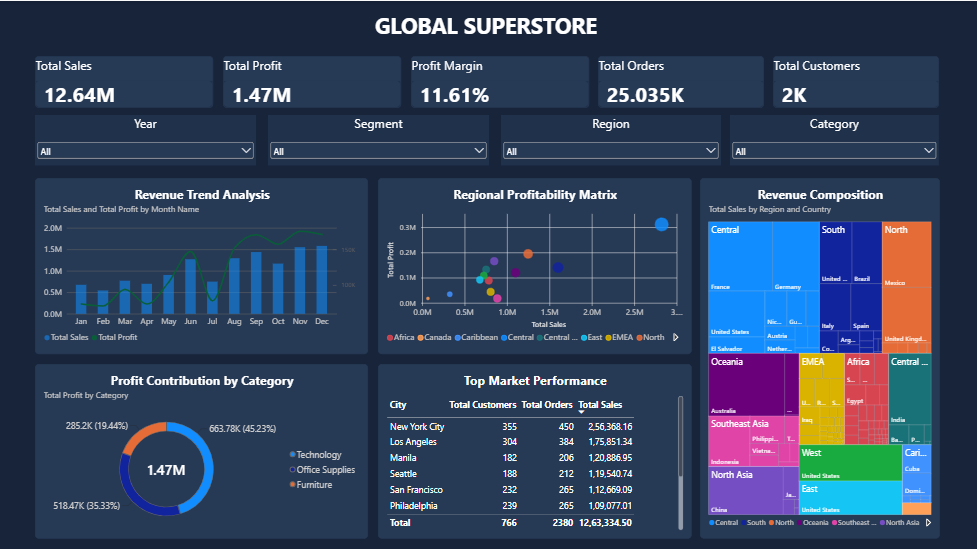

Layout of this report page (visuals, bound fields, positions):
{"tool":"powerbi","page":{"name":"Page 1","canvas":[1920,1080],"ordinal":0},"visuals":[{"type":"cardVisual","title":"Total Sales","fields":{"Data":["Orders.Total Sales"]},"box":[69.1,108,349.9,101.5],"z":0},{"type":"cardVisual","title":"Total Profit","fields":{"Data":["Orders.Total Profit"]},"box":[438.5,108,349.9,101.5],"z":1000},{"type":"cardVisual","title":"Profit Margin","fields":{"Data":["Orders.Profit Margin %"]},"box":[807.8,108,349.9,101.5],"z":2000},{"type":"cardVisual","title":"Total Customers","fields":{"Data":["Orders.Total Customers"]},"box":[1518.5,108,326.2,101.5],"z":3000},{"type":"cardVisual","title":"Total Orders","fields":{"Data":["Orders.Total Orders"]},"box":[1175,108,326.2,101.5],"z":4000},{"type":"textbox","box":[0,0,1920.2,90.7],"z":5000},{"type":"lineClusteredColumnComboChart","title":"Revenue Trend Analysis","fields":{"Category":["DateTable.Month Name"],"Y":["Orders.Total Sales"],"Y2":["Orders.Total Profit"]},"box":[69.1,347.8,654.5,345.6],"z":6000},{"type":"treemap","title":"Revenue Composition","fields":{"Details":["Orders.Country"],"Group":["Orders.Region"],"Values":["Orders.Total Sales"]},"box":[1373.8,347.8,470.9,708.5],"z":7000},{"type":"scatterChart","title":"Regional Profitability Matrix","fields":{"Category":["Orders.Region"],"Series":["Orders.Region"],"Size":["Orders.Total Sales"],"X":["Orders.Total Sales"],"Y":["Orders.Total Profit"]},"box":[743,347.8,615.6,345.6],"z":8000},{"type":"tableEx","title":"Top Market Performance","fields":{"Values":["Orders.City","Orders.Total Customers","Orders.Total Orders","Orders.Total Sales"]},"box":[743,712.8,615.6,343.4],"z":9000},{"type":"slicer","title":"Year","fields":{"Values":["DateTable.Year"]},"box":[69.1,224.6,434.2,99.4],"z":11000},{"type":"slicer","title":"Region","fields":{"Values":["Orders.Region"]},"box":[982.8,224.6,432,99.4],"z":12000},{"type":"slicer","title":"Category","fields":{"Values":["Orders.Category"]},"box":[1434.2,224.6,410.4,99.4],"z":13000},{"type":"slicer","title":"Segment","fields":{"Values":["Orders.Segment"]},"box":[527,224.6,434.2,99.4],"z":14000},{"type":"donutChart","title":"Profit Contribution by Category","fields":{"Category":["Orders.Category"],"Y":["Orders.Total Profit"]},"box":[69.1,712.8,654.5,343.4],"z":15000}]}

Visuals, with their boxes in screenshot pixels (x1, y1, x2, y2), scaled from the page's 1920x1080 canvas onto the 977x549 screenshot:
"Total Sales" cardVisual: region(35, 55, 213, 106)
"Total Profit" cardVisual: region(223, 55, 401, 106)
"Profit Margin" cardVisual: region(411, 55, 589, 106)
"Total Customers" cardVisual: region(773, 55, 939, 106)
"Total Orders" cardVisual: region(598, 55, 764, 106)
textbox: region(0, 0, 976, 46)
"Revenue Trend Analysis" lineClusteredColumnComboChart: region(35, 177, 368, 352)
"Revenue Composition" treemap: region(699, 177, 939, 537)
"Regional Profitability Matrix" scatterChart: region(378, 177, 691, 352)
"Top Market Performance" tableEx: region(378, 362, 691, 537)
"Year" slicer: region(35, 114, 256, 165)
"Region" slicer: region(500, 114, 720, 165)
"Category" slicer: region(730, 114, 939, 165)
"Segment" slicer: region(268, 114, 489, 165)
"Profit Contribution by Category" donutChart: region(35, 362, 368, 537)
